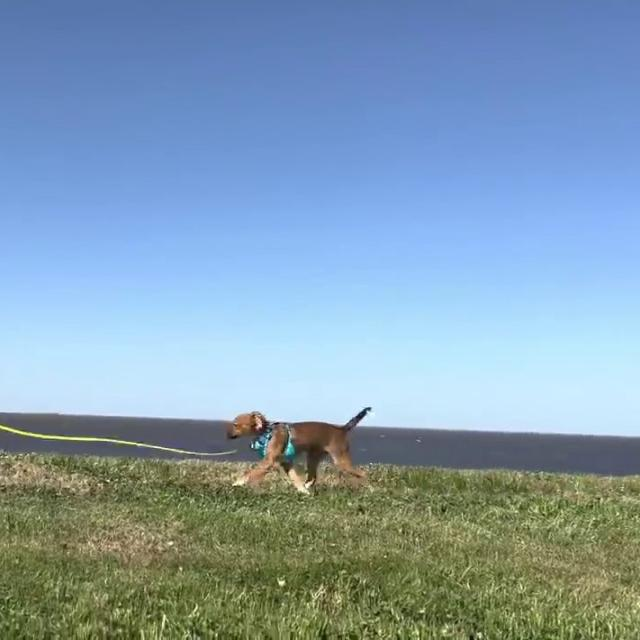Dog: (226, 404, 377, 494)
